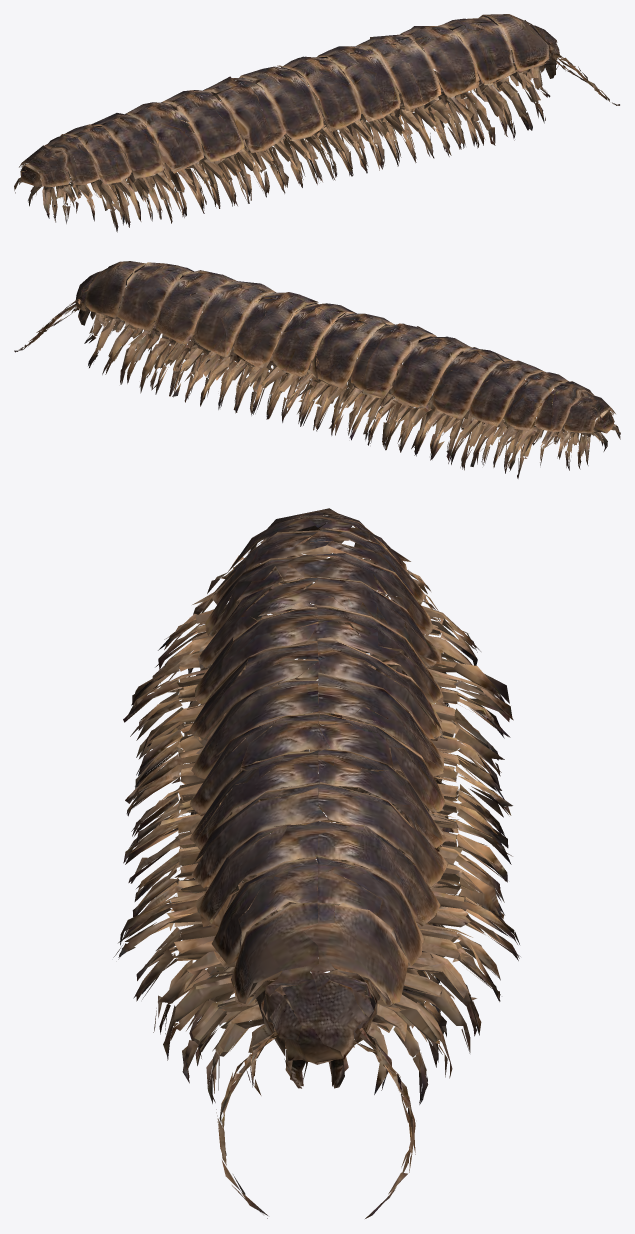
File: arthropleura.glb
3 views of the same model, one above another, from view 1: azimuth 30°, elevation 25°; view 2: azimuth 150°, elevation 25°; view 3: azimuth 270°, elevation 25° (orthographic). The views are drawn at different scales.
Visible parts, largest first — view 1: Mesh_0; view 2: Mesh_0; view 3: Mesh_0.
Boxes of the visible parts, bbox=[...] form: Mesh_0: bbox=[14, 14, 619, 232]; Mesh_0: bbox=[14, 261, 620, 478]; Mesh_0: bbox=[113, 508, 520, 1218].
Size of the model in its own units: 1 by 0.1777 by 0.3038.
Materials: 1 (1 with a texture image).
